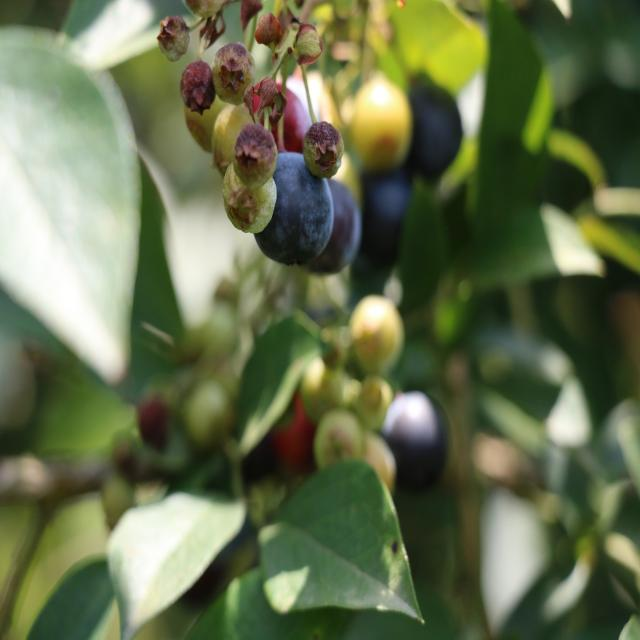blueberry: (248, 144, 335, 269), (367, 385, 457, 501), (397, 75, 468, 189), (353, 157, 421, 276), (297, 171, 364, 281)
blueberry-unripe: (349, 80, 411, 165), (350, 294, 408, 370), (222, 161, 276, 234), (182, 87, 224, 149), (212, 102, 253, 164)
